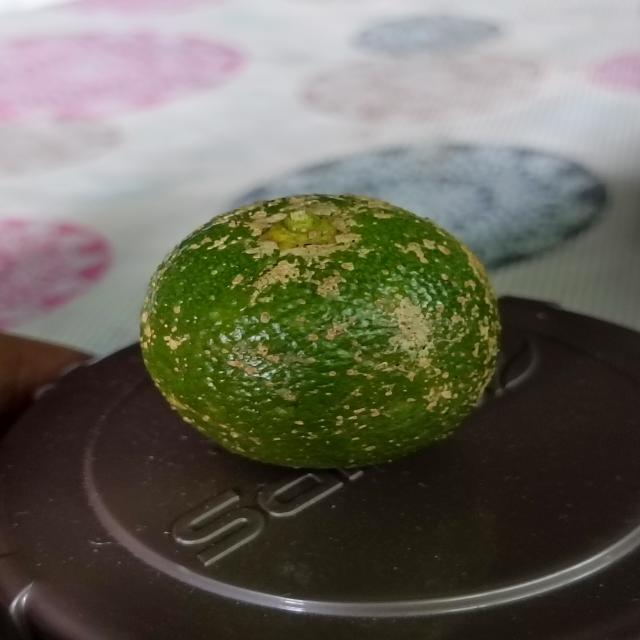scab: (133, 183, 506, 465)
